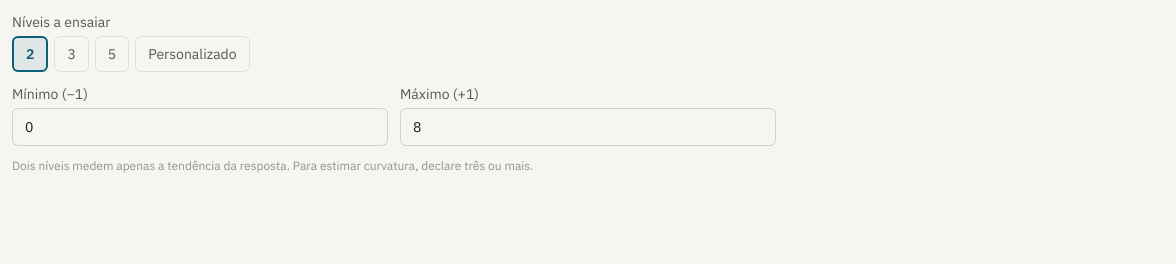
Test: NiveisFator — fator quantitativo › escolher 5 níveis produz cinco valores igualmente espaçados
Click the radio button labelled "5": (112, 54) top-left (95, 36), bottom-right (129, 72)
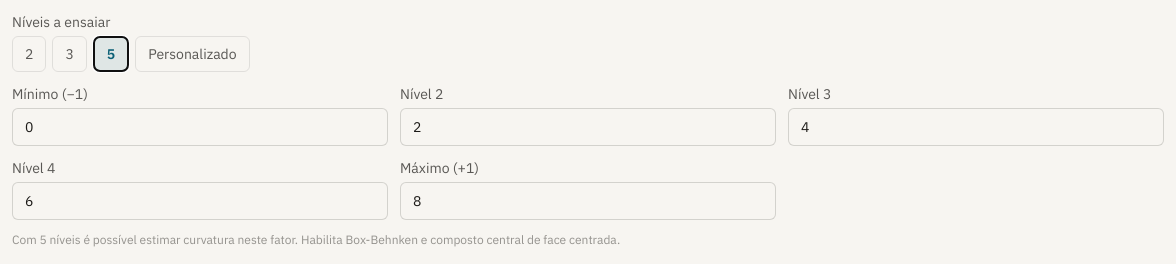
Result: the number field labelled "Nível 2" holds "2" at top-left (400, 108), bottom-right (776, 146)
Result: the number field labelled "Nível 3" holds "4" at top-left (788, 108), bottom-right (1164, 146)
Result: the number field labelled "Nível 4" holds "6" at top-left (12, 182), bottom-right (388, 220)
